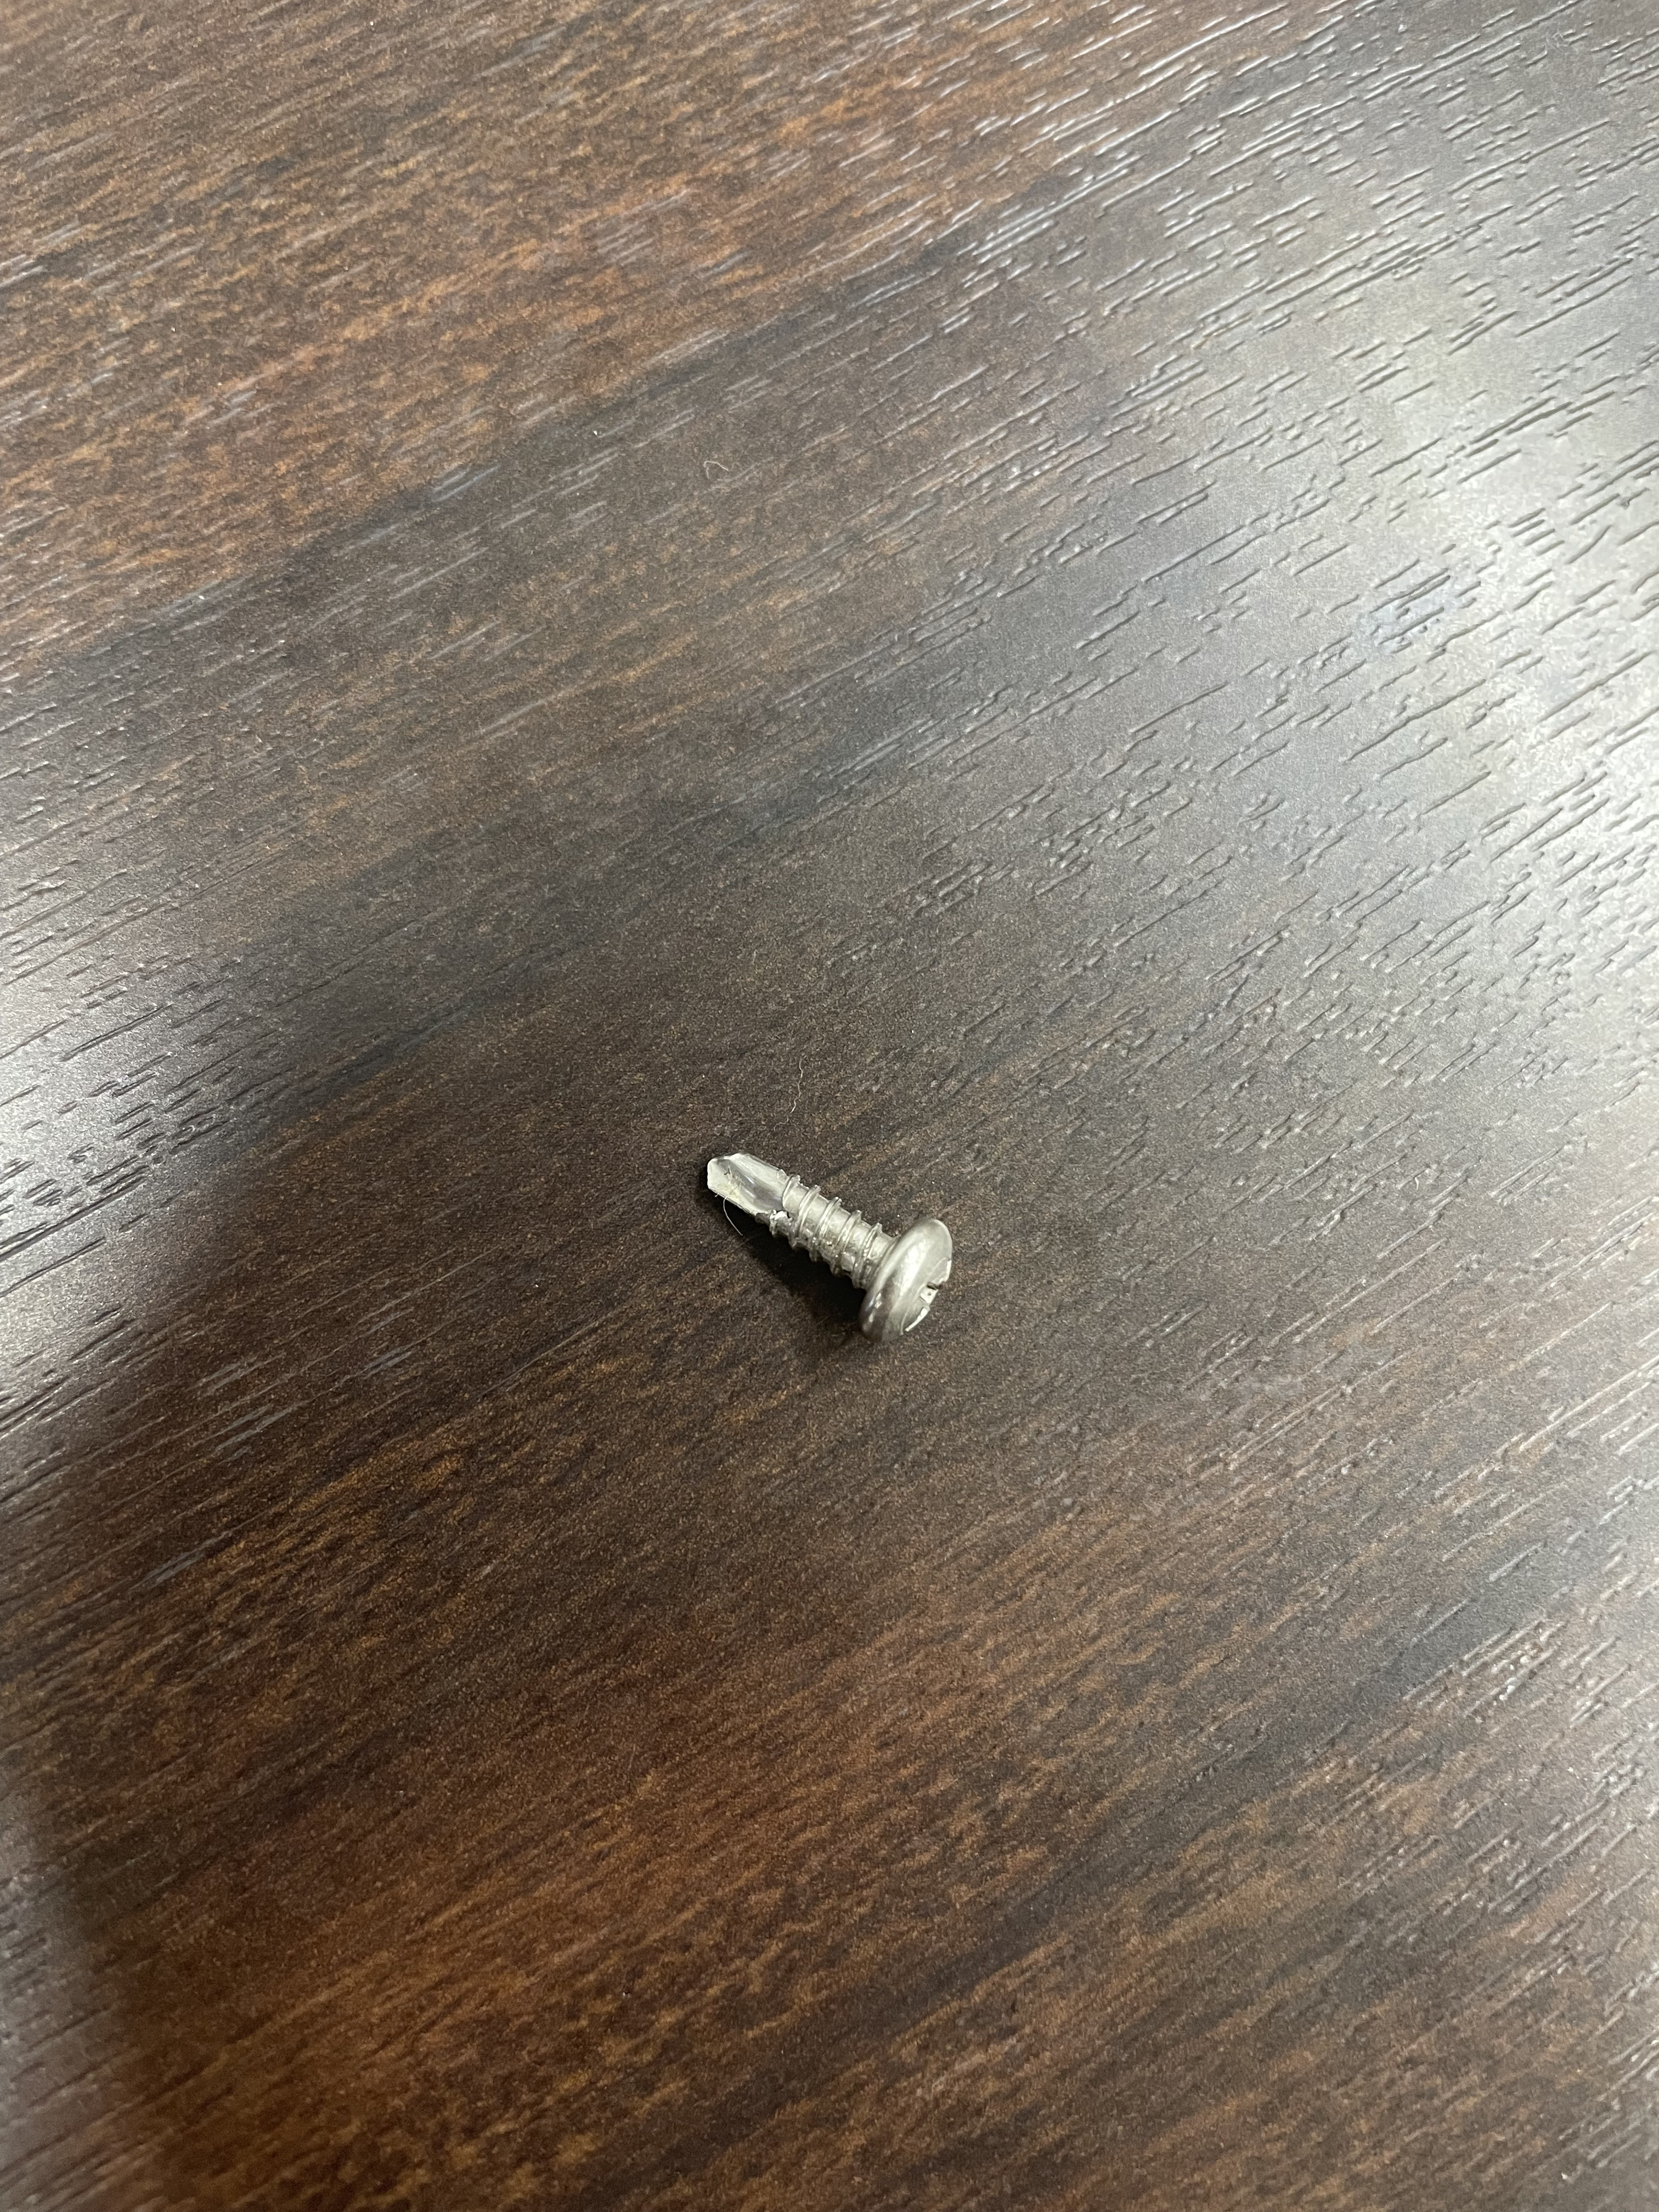screw3: (702, 1143, 953, 1352)
